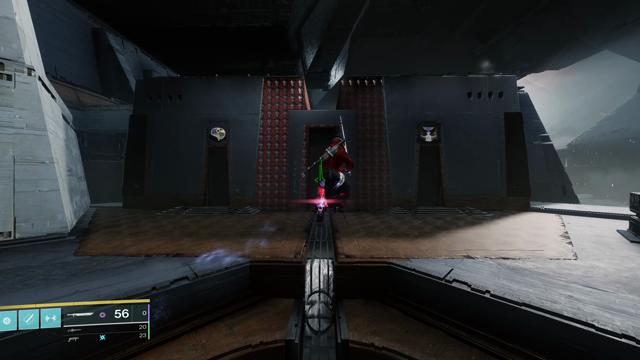brain: (209, 125, 227, 142)
drink: (419, 125, 438, 142)
